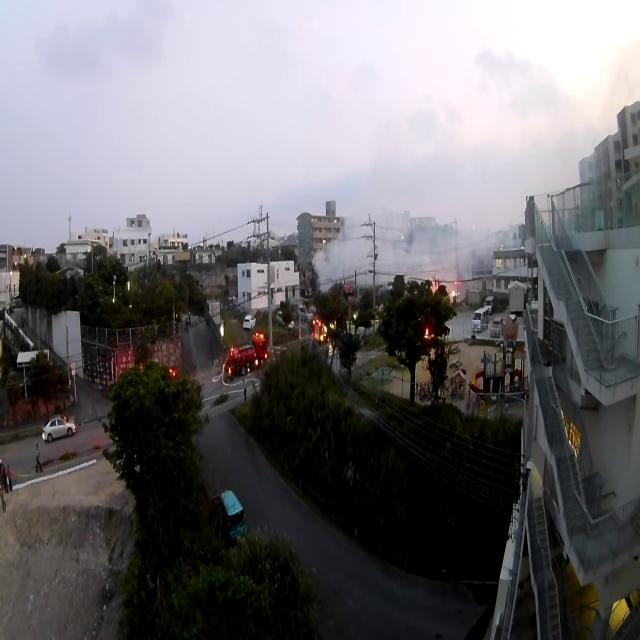Smoke: (310, 204, 504, 298)
